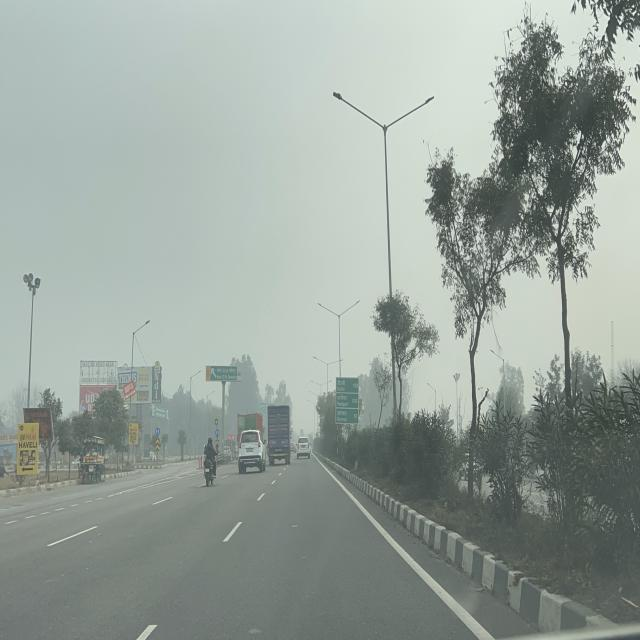GENERAL: (336, 377, 358, 424), (206, 366, 237, 381)
KEEP_EITHER_SIDE: (214, 429, 220, 438), (155, 427, 160, 437)
